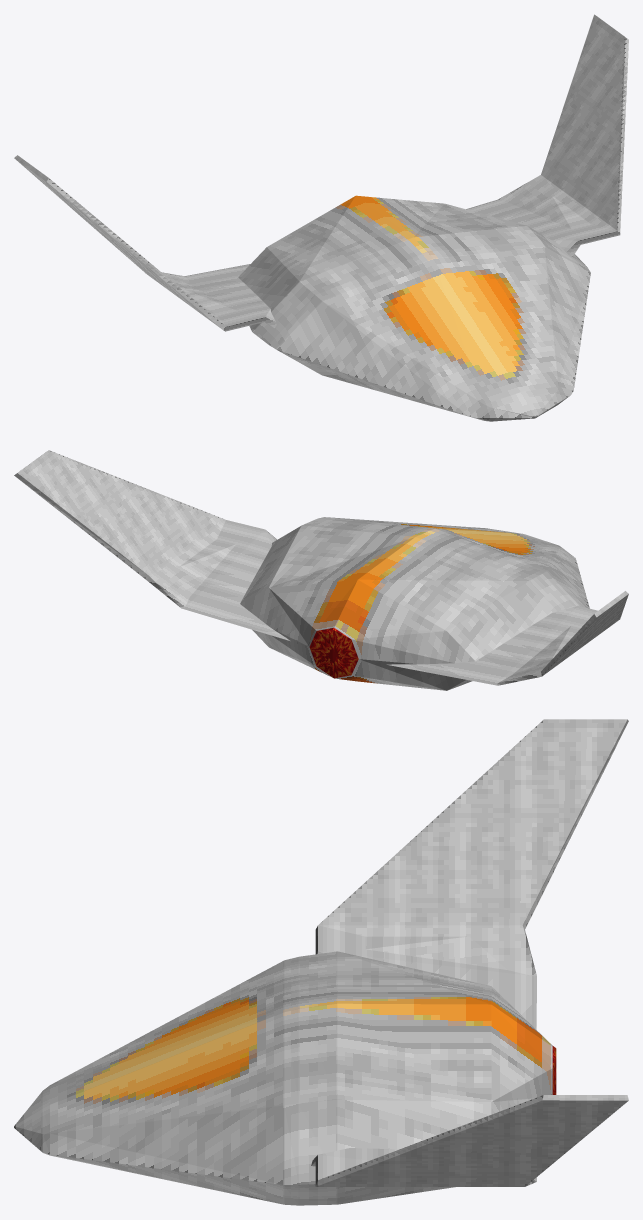
Rendered from snowftr.obj.
The picture shows the model from 3 angles, top to bottom: view 1: azimuth 30°, elevation 25°; view 2: azimuth 150°, elevation 25°; view 3: azimuth 270°, elevation 25°; orthographic projection. The views are drawn at different scales.
Bounding box in the file's own units: 4.15 × 1.26 × 2.84.
4 materials, 4 textured.
